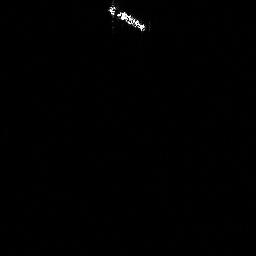ship: (105, 1, 149, 34)
